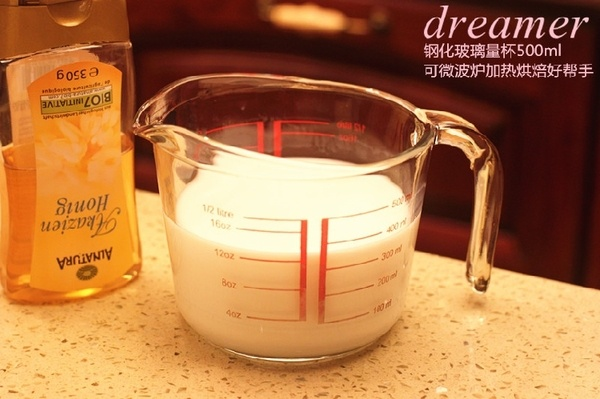glass of milk: (144, 68, 448, 380)
